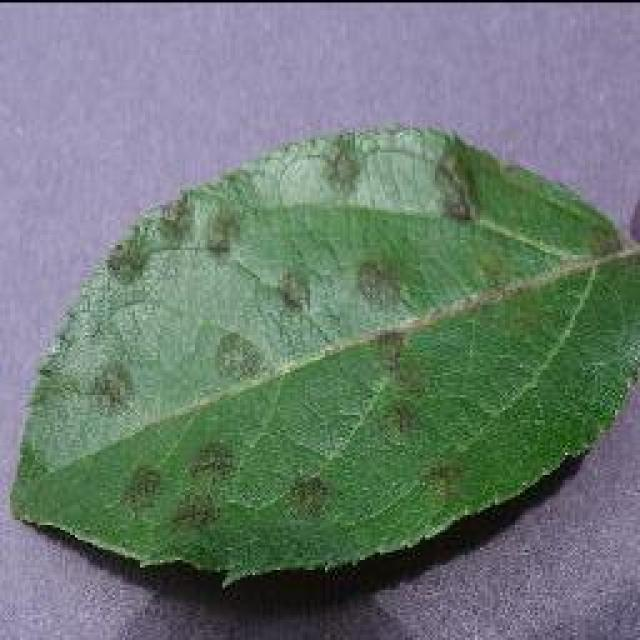apple scab disease: (8, 118, 638, 590)
